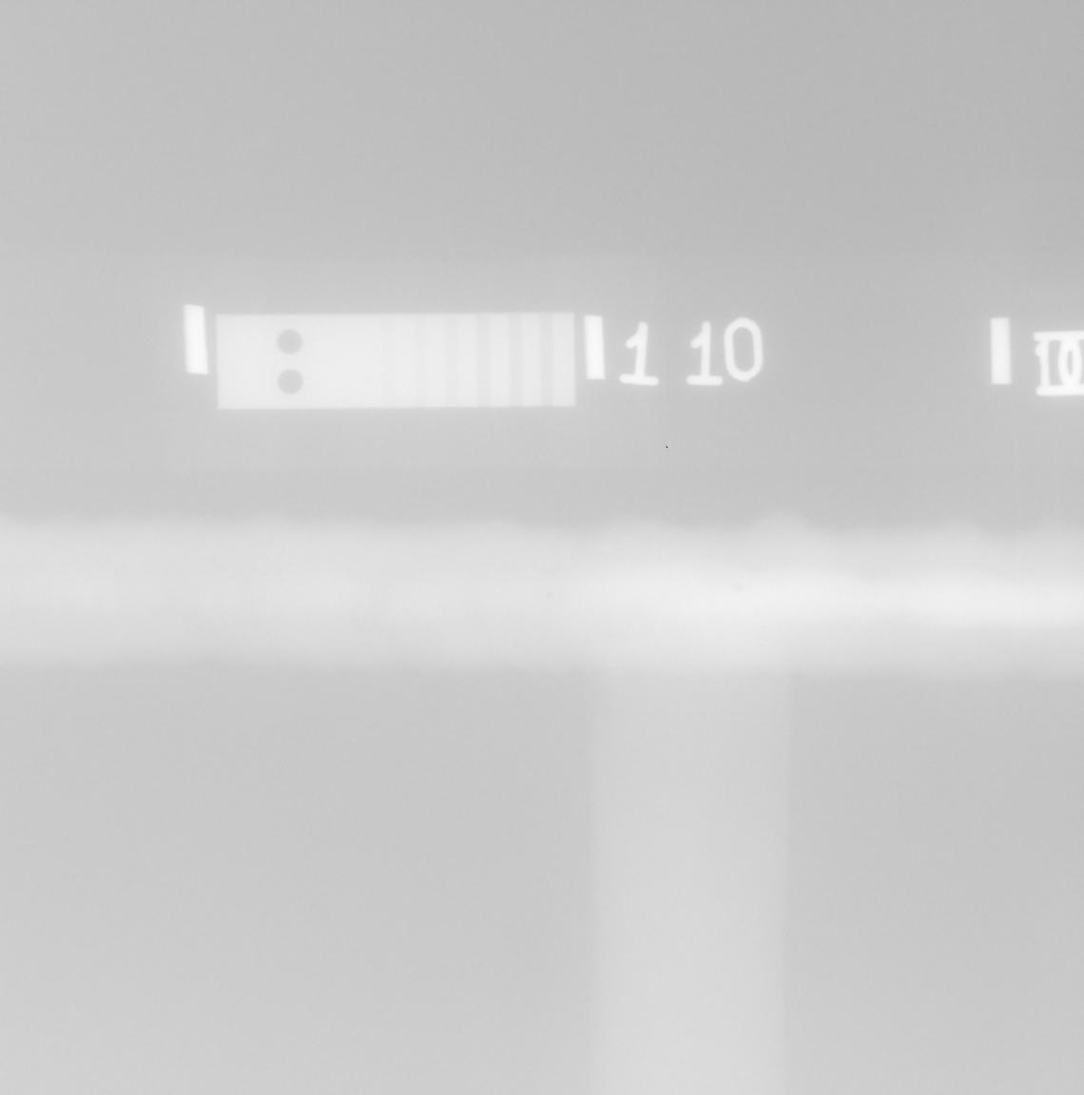Pore/Porosity: (734, 583, 743, 593), (546, 593, 552, 597), (357, 600, 361, 605), (274, 570, 280, 573)
Reference Standard 2: (215, 312, 575, 409)
